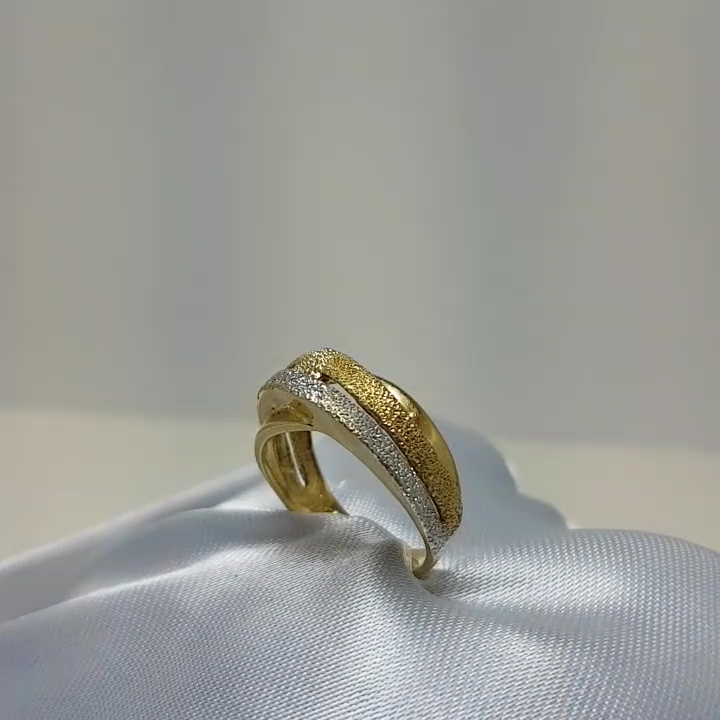Ring 5: (237, 336, 479, 581)
